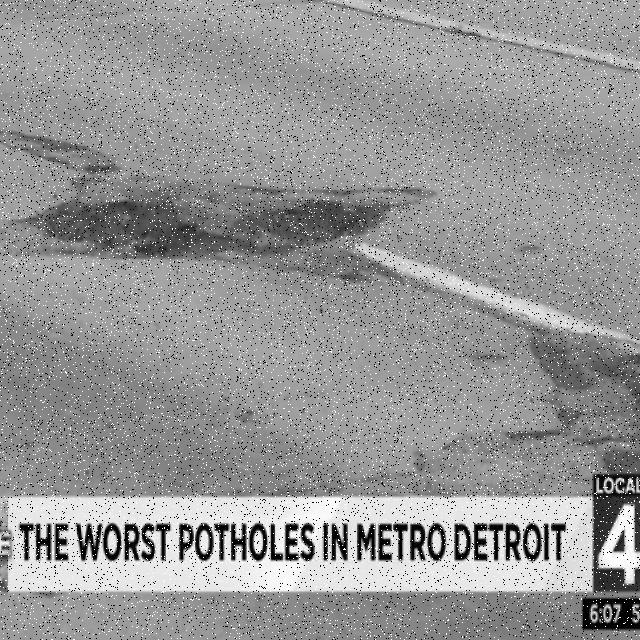pothole: (0, 126, 404, 290), (473, 339, 640, 487)
